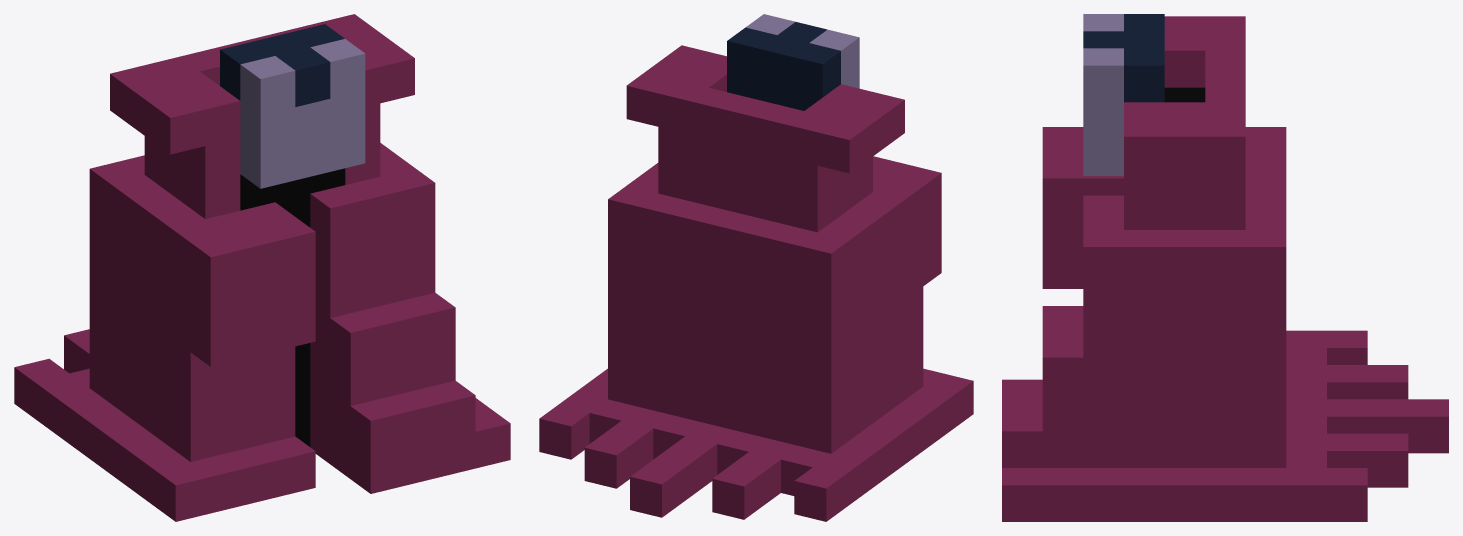
Rendered from vampire_walk_2.obj.
3 renders of one model, left to right at view 1: azimuth 30°, elevation 25°; view 2: azimuth 150°, elevation 25°; view 3: azimuth 270°, elevation 25°, orthographic. The views are drawn at different scales.
Size of the model in its own units: 0.9 by 1.1 by 1.1.
Materials: 1 (1 with a texture image).
